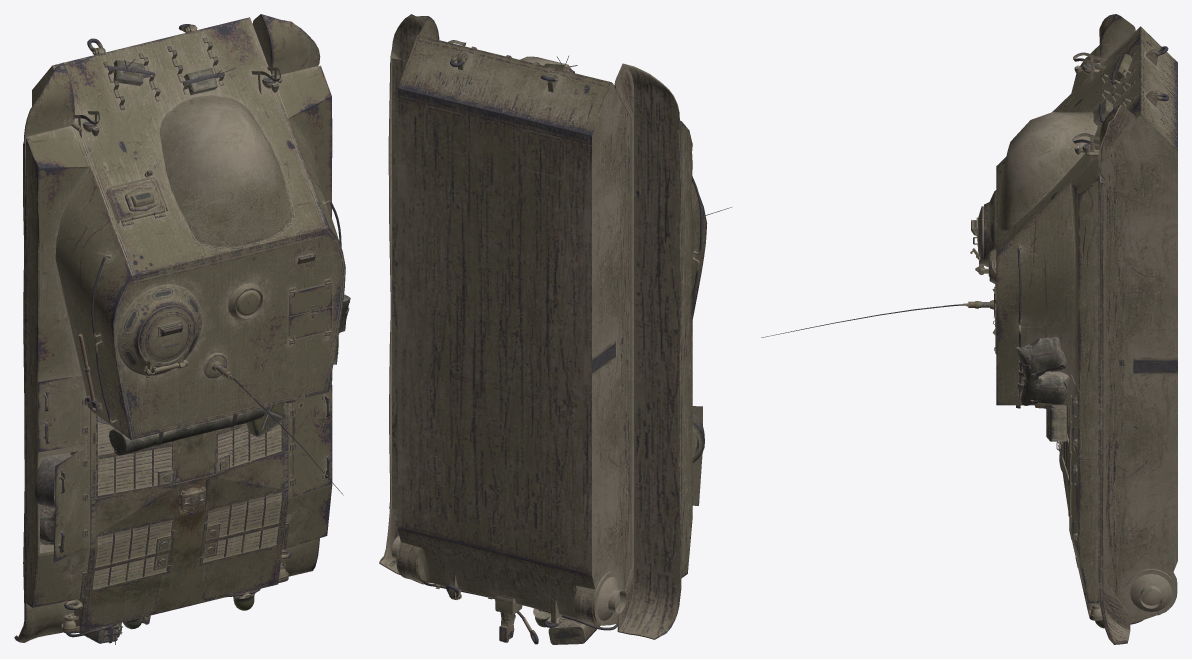
The model's file is Hull.glb.
The picture shows the model from 3 angles, left to right: view 1: azimuth 30°, elevation 25°; view 2: azimuth 150°, elevation 25°; view 3: azimuth 270°, elevation 25°; orthographic projection. The views are drawn at different scales.
Parts seen in each view (by area): view 1: set_0_group_0; view 2: set_0_group_0; view 3: set_0_group_0.
Part boxes in pixels (x1,y1,x2,y2): set_0_group_0: [14, 14, 350, 644]; set_0_group_0: [379, 14, 731, 644]; set_0_group_0: [761, 14, 1177, 644].
Bounding box in the file's own units: 3.2 × 6.02 × 4.14.
Materials: 1 (1 with a texture image).
